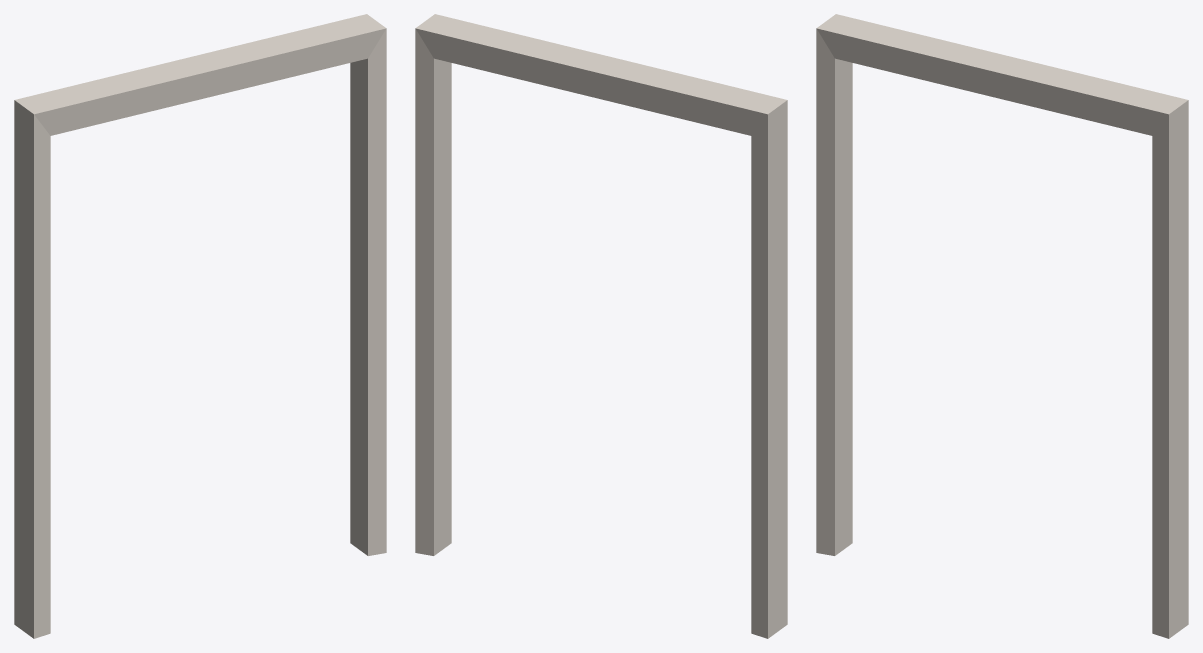
File: Atelier_modular_wall_rectangular_frame.fbx
3 renders of one model, left to right at view 1: azimuth 30°, elevation 25°; view 2: azimuth 150°, elevation 25°; view 3: azimuth 330°, elevation 25°, orthographic.
Parts seen in each view (by area): view 1: Atelier_modular_wall_rectangular_frame; view 2: Atelier_modular_wall_rectangular_frame; view 3: Atelier_modular_wall_rectangular_frame.
Boxes of the visible parts, left/top/right/bottom form: Atelier_modular_wall_rectangular_frame: left=14, top=14, right=386, bottom=638; Atelier_modular_wall_rectangular_frame: left=415, top=14, right=787, bottom=638; Atelier_modular_wall_rectangular_frame: left=816, top=14, right=1188, bottom=638.
Bounding box in the file's own units: 157 × 224 × 15.15.
Materials: 1 (1 with a texture image).
